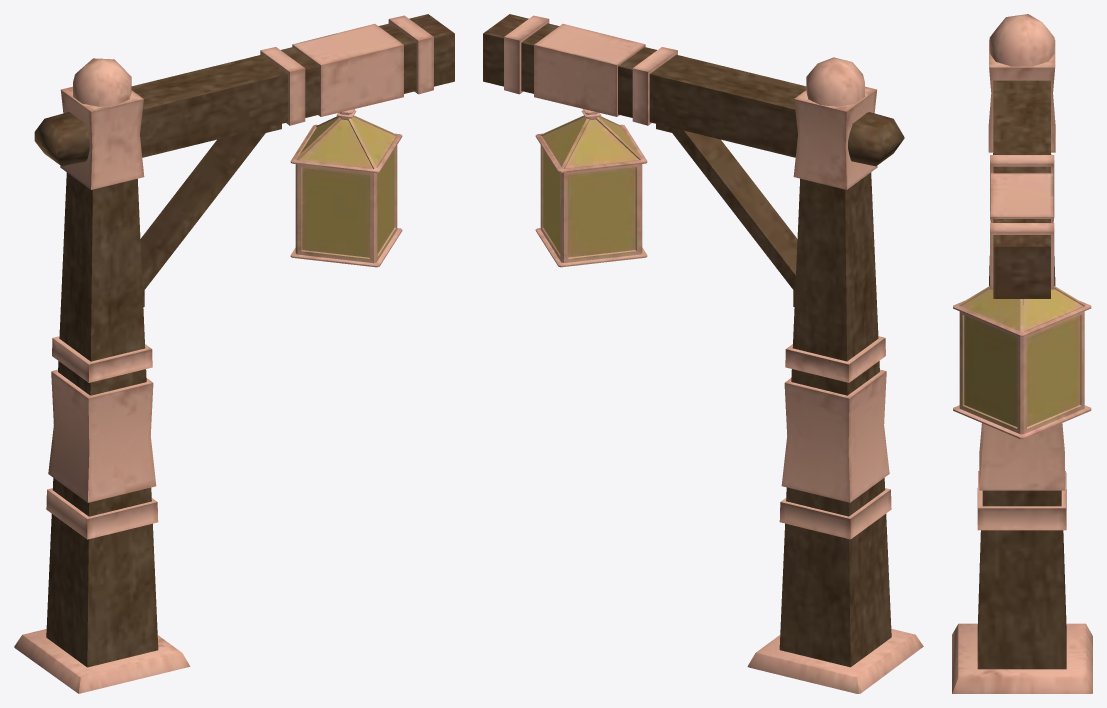
File: street-lamp.lod0.glb
The picture shows the model from 3 angles, left to right: view 1: azimuth 30°, elevation 25°; view 2: azimuth 150°, elevation 25°; view 3: azimuth 270°, elevation 25°; orthographic projection. The views are drawn at different scales.
Visible parts, largest first — view 1: Box016__0; view 2: Box016__0; view 3: Box016__0.
Boxes of the visible parts, left/top/right/bottom form: Box016__0: left=14, top=14, right=454, bottom=693; Box016__0: left=483, top=14, right=923, bottom=693; Box016__0: left=952, top=14, right=1092, bottom=693.
Bounding box in the file's own units: 4.19 × 5.99 × 1.18.
1 material, 1 textured.
